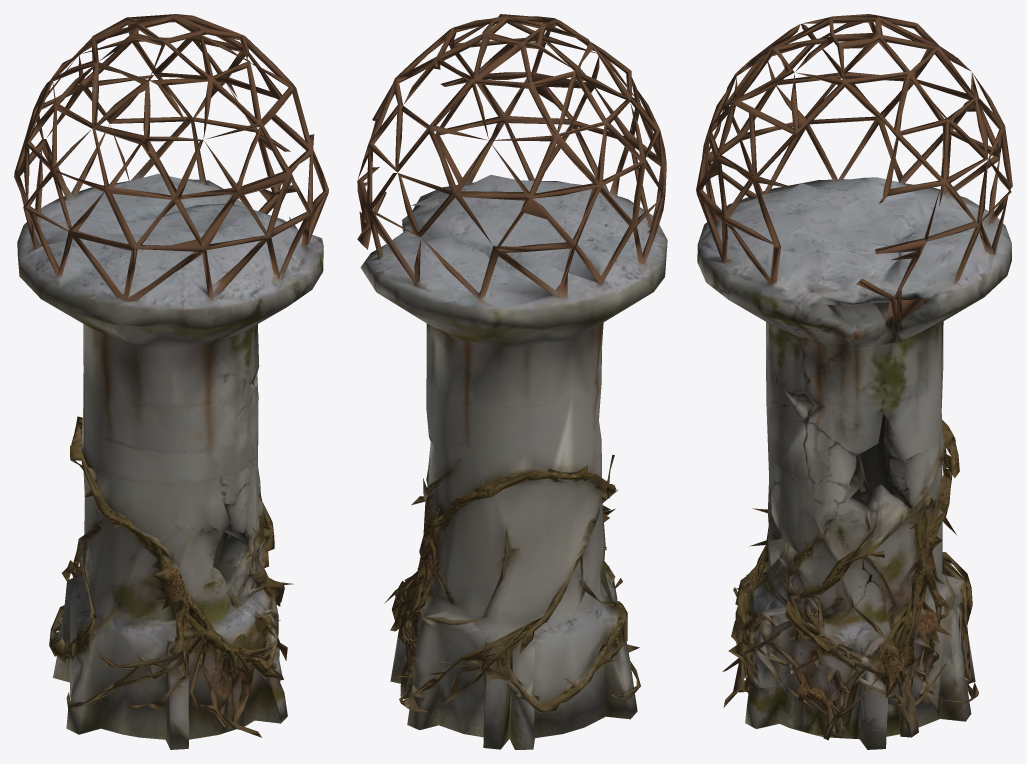
File: ruin-sphere.glb
3 views of the same model, side by side, from view 1: azimuth 30°, elevation 25°; view 2: azimuth 150°, elevation 25°; view 3: azimuth 270°, elevation 25° (orthographic).
Parts seen in each view (by area): view 1: tripo_node_7ab12958-9ede-4902-9529-5d070d2de385; view 2: tripo_node_7ab12958-9ede-4902-9529-5d070d2de385; view 3: tripo_node_7ab12958-9ede-4902-9529-5d070d2de385.
Boxes of the visible parts, x1,y1,x2,y2 form: tripo_node_7ab12958-9ede-4902-9529-5d070d2de385: (14,14,328,749); tripo_node_7ab12958-9ede-4902-9529-5d070d2de385: (357,14,667,749); tripo_node_7ab12958-9ede-4902-9529-5d070d2de385: (696,14,1012,749).
Bounding box in the file's own units: 0.4193 × 0.9996 × 0.428.
Materials: 1 (1 with a texture image).
